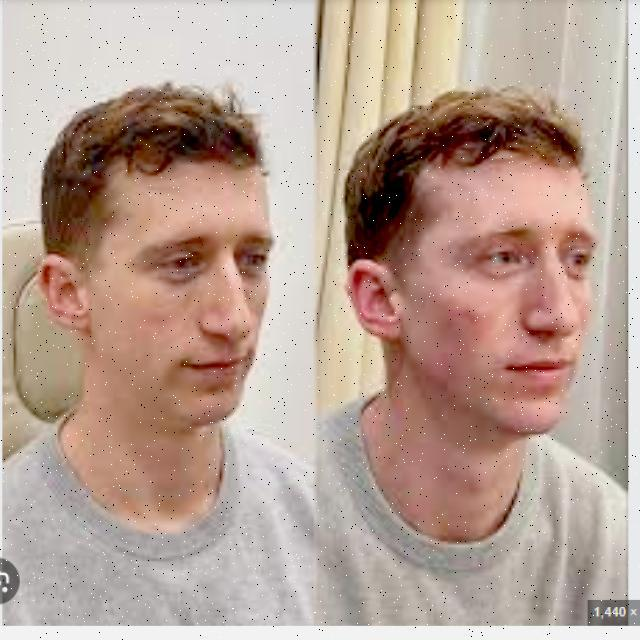face_no_mask: (346, 179, 603, 443), (45, 157, 273, 431)
